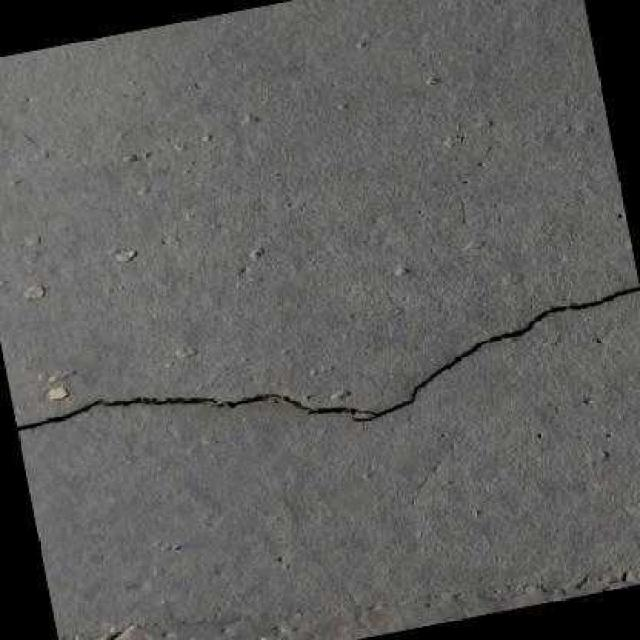D00: (15, 286, 640, 431)
